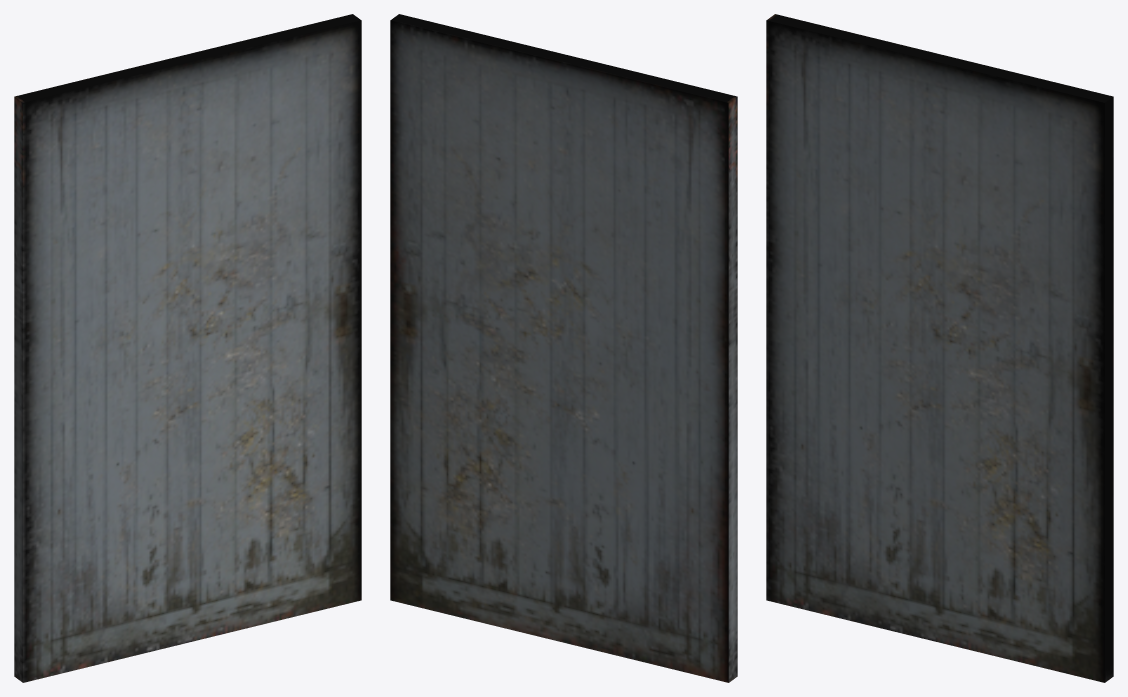
File: BigDoor.FBX
3 views of the same model, side by side, from view 1: azimuth 30°, elevation 25°; view 2: azimuth 150°, elevation 25°; view 3: azimuth 330°, elevation 25° (orthographic).
Parts seen in each view (by area): view 1: BigDoor; view 2: BigDoor; view 3: BigDoor.
Part boxes in pixels (x1,y1,x2,y2): BigDoor: (14,14,361,682); BigDoor: (390,14,737,682); BigDoor: (766,14,1113,682).
Bounding box in the file's own units: 130 × 213 × 5.78.
